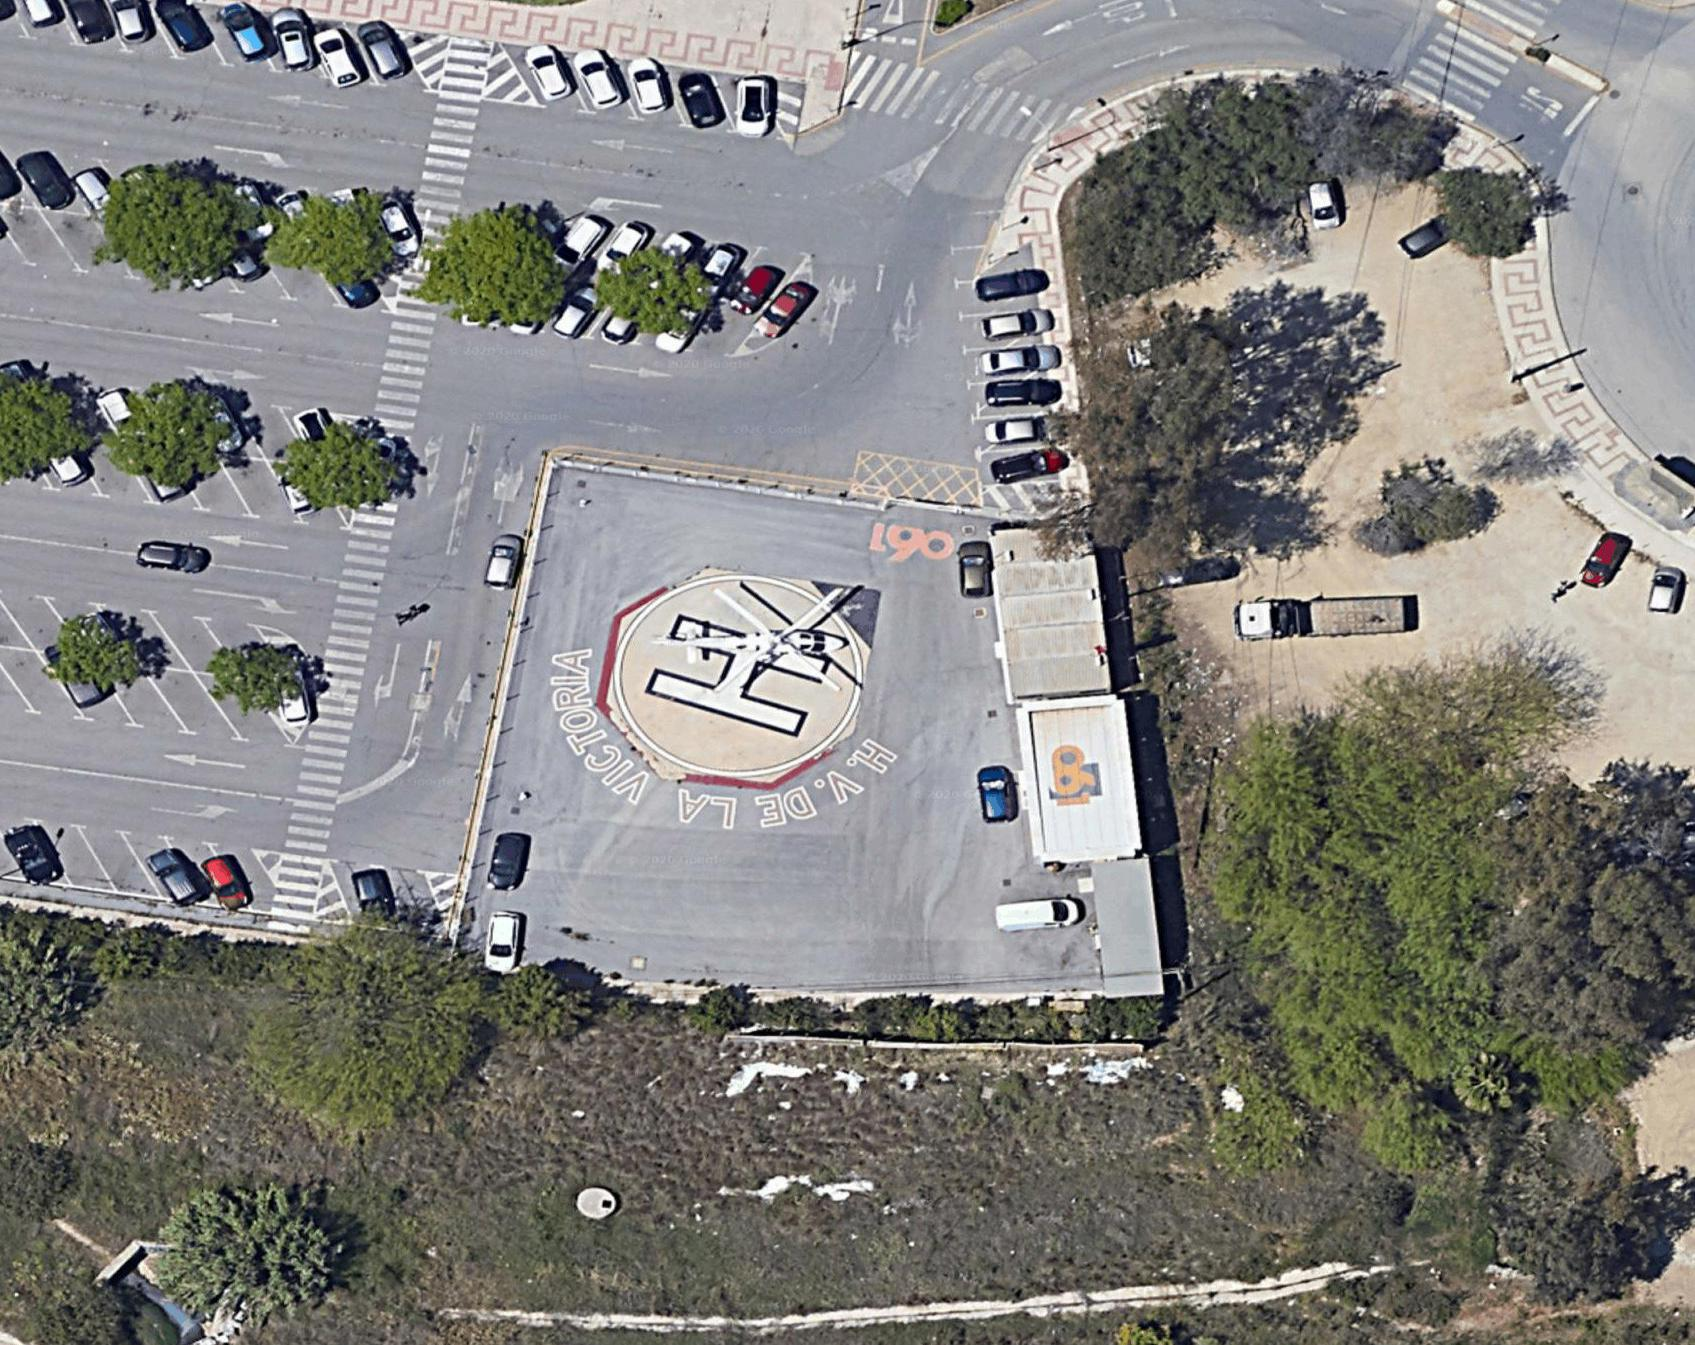helicopter: (670, 594, 874, 690)
helipad: (593, 561, 908, 783)
large-vehicle: (1240, 595, 1423, 644)
small-vehicle: (570, 44, 622, 114), (149, 846, 208, 908), (25, 146, 76, 215), (758, 278, 814, 338), (311, 23, 362, 89), (981, 338, 1058, 378), (974, 265, 1048, 307), (984, 375, 1066, 413), (729, 259, 781, 315), (625, 54, 669, 120), (526, 43, 572, 105), (480, 906, 521, 975), (358, 23, 404, 84), (10, 827, 56, 886), (677, 66, 722, 127), (993, 444, 1066, 481), (378, 199, 422, 259), (202, 857, 252, 909), (270, 10, 311, 72), (133, 539, 201, 575), (1398, 221, 1450, 263), (69, 164, 111, 213), (1582, 536, 1623, 587), (982, 414, 1048, 446), (487, 833, 523, 891), (735, 73, 768, 135), (702, 239, 742, 289), (1648, 562, 1685, 615), (959, 542, 991, 600), (486, 536, 519, 590), (349, 866, 387, 912), (978, 766, 1008, 821)
